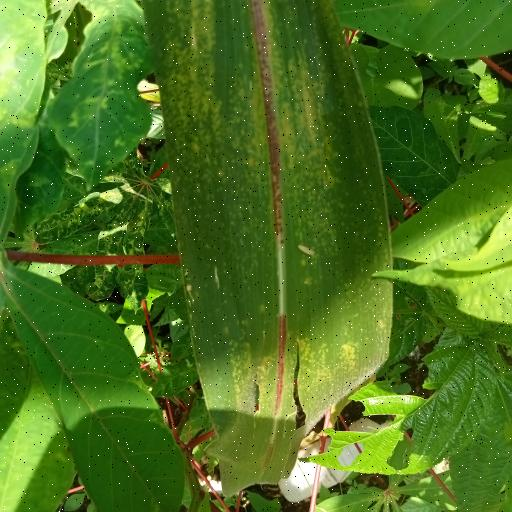Corn_Brown_Spots: (148, 2, 399, 424)
